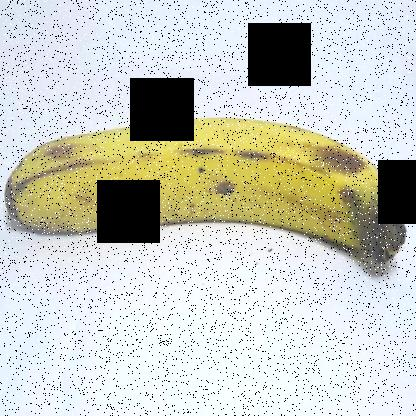ripe: (1, 95, 409, 281)
